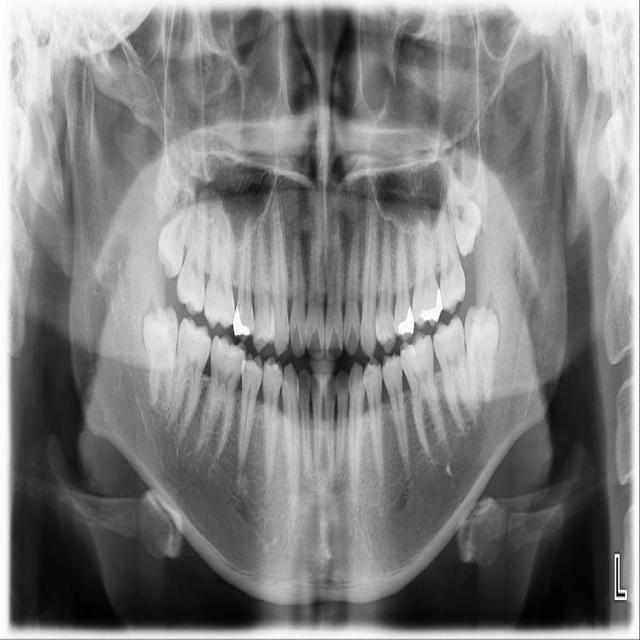3M ESPE Implant: (151, 164, 201, 283)
52: (407, 280, 447, 331), (390, 296, 417, 344), (233, 299, 255, 342)
73: (609, 546, 624, 556)
BioHorizons Implant: (436, 186, 467, 316)
BioLife Implant: (437, 151, 491, 259)
Biomet 3i Implant: (462, 302, 505, 414)
Blue Sky Bio Implant: (428, 313, 479, 430)
Caries: (174, 182, 211, 320)
Implant: (167, 315, 215, 435)
Keystone Dental Implant: (142, 304, 181, 414)
